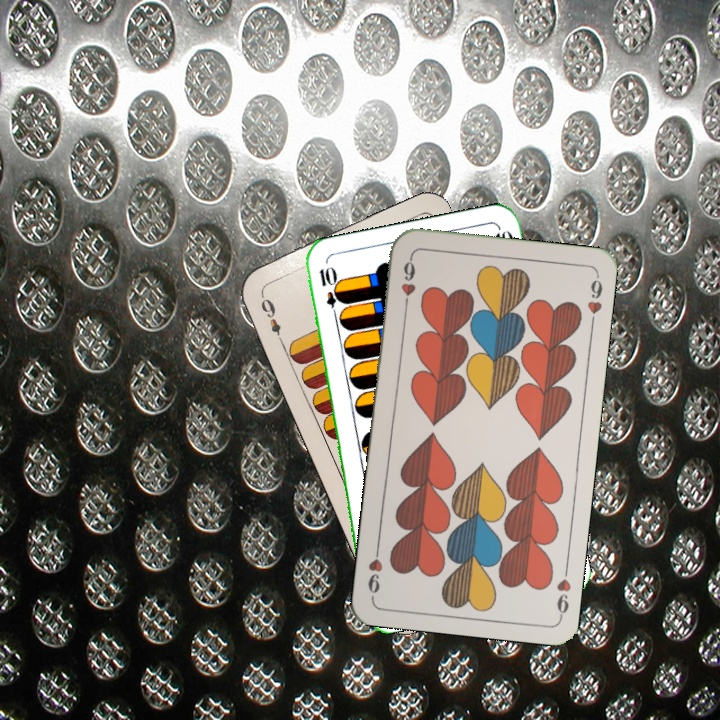E10: (315, 262, 342, 322)
E9: (256, 289, 286, 346)
H9: (397, 252, 419, 311), (553, 561, 574, 620)
